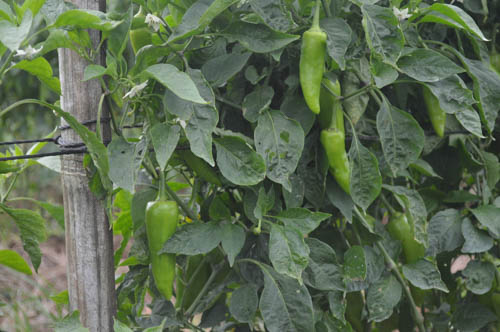ChiliPepper: (145, 201, 180, 300), (297, 31, 325, 113), (324, 130, 351, 193), (420, 85, 448, 138), (389, 211, 417, 260)
